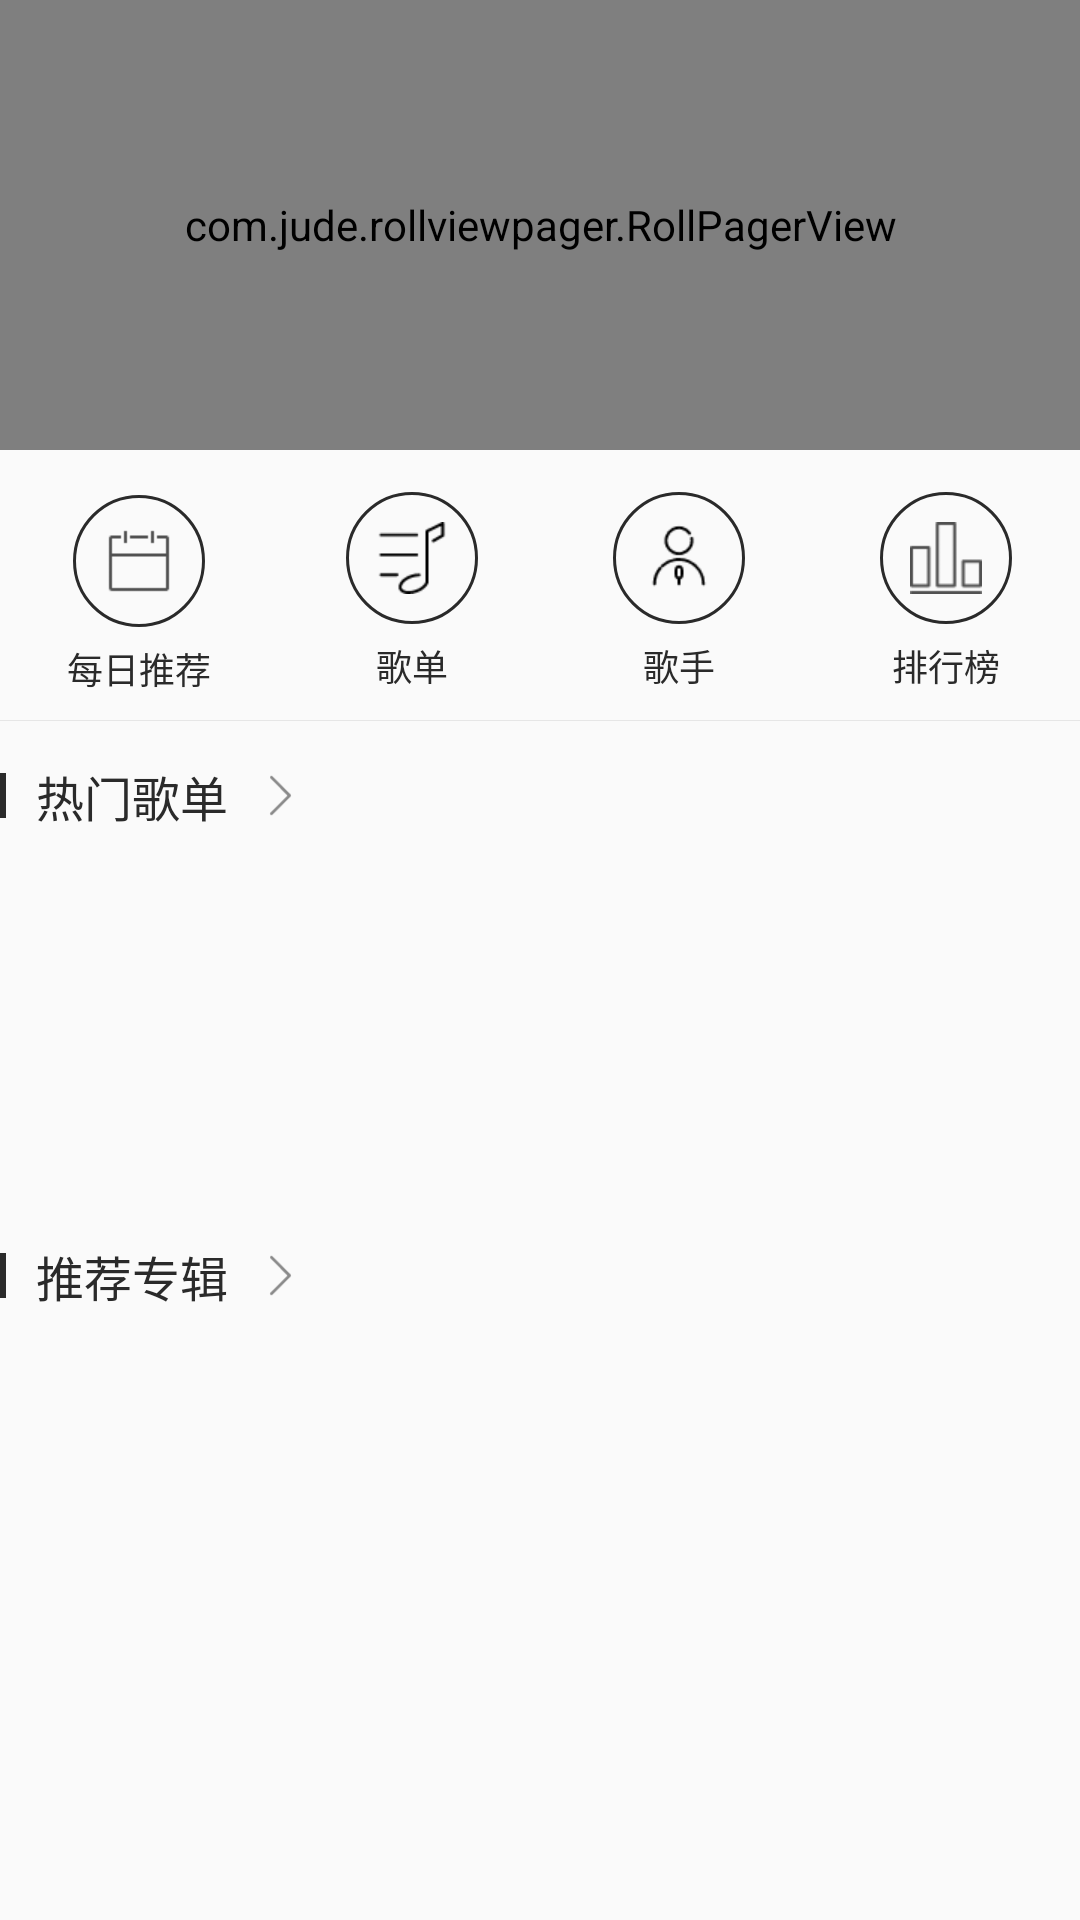

Named icons in this screenshot (1080px x 1920px) and their centers, point (x, y):
arrow right: point (280, 795), point (280, 1275)
online calen: point (139, 561)
